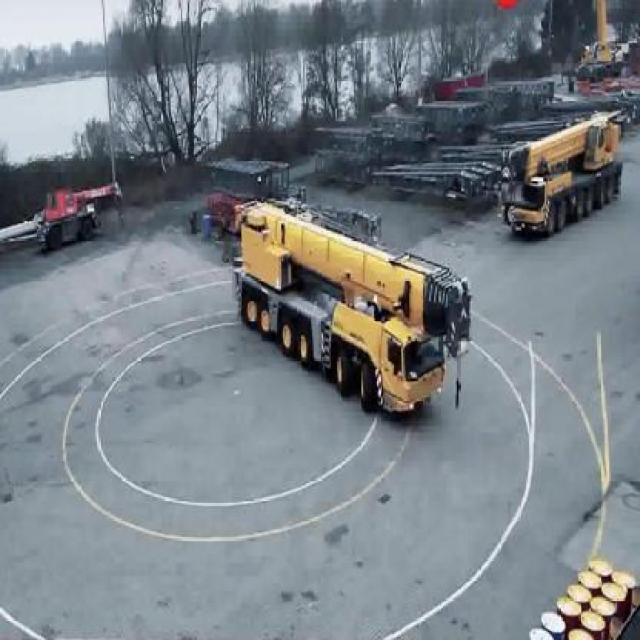Mobile Crane: (232, 200, 470, 418), (501, 112, 621, 236)
